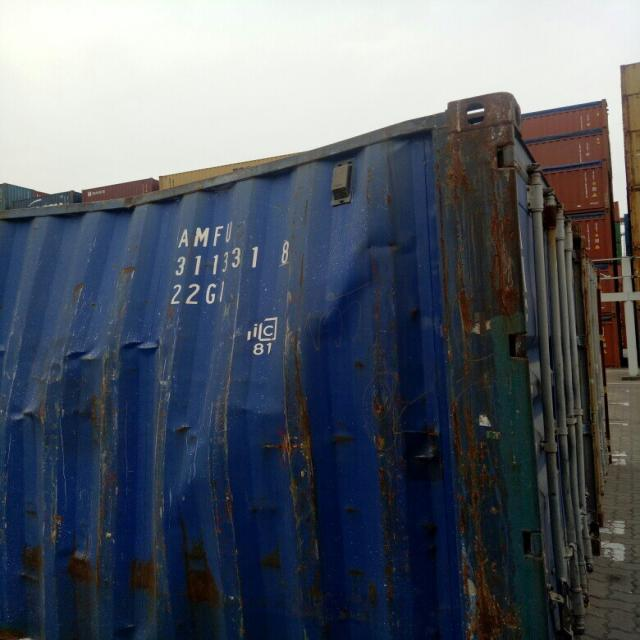Deframe_or_Dent: (69, 341, 452, 585), (0, 118, 434, 284)
